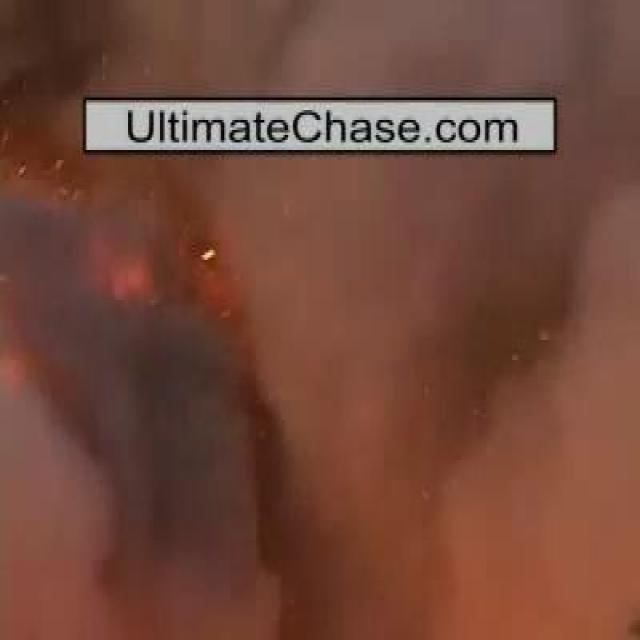Smoke: (78, 165, 524, 585)
